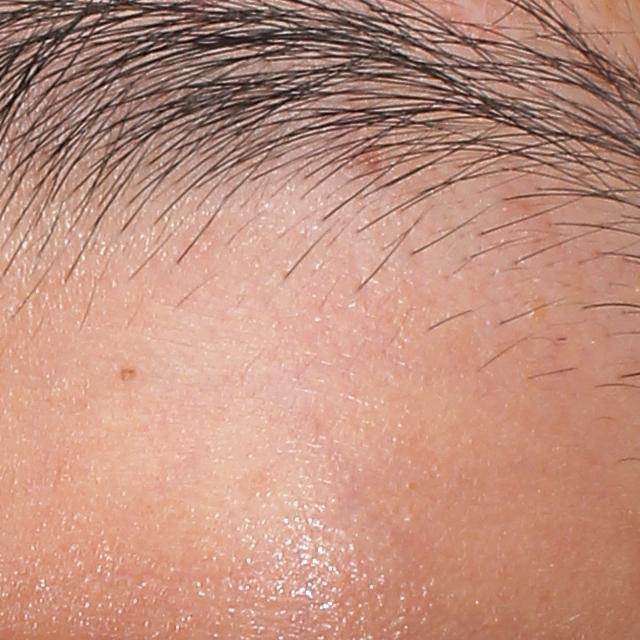nevus: (117, 365, 140, 385)
